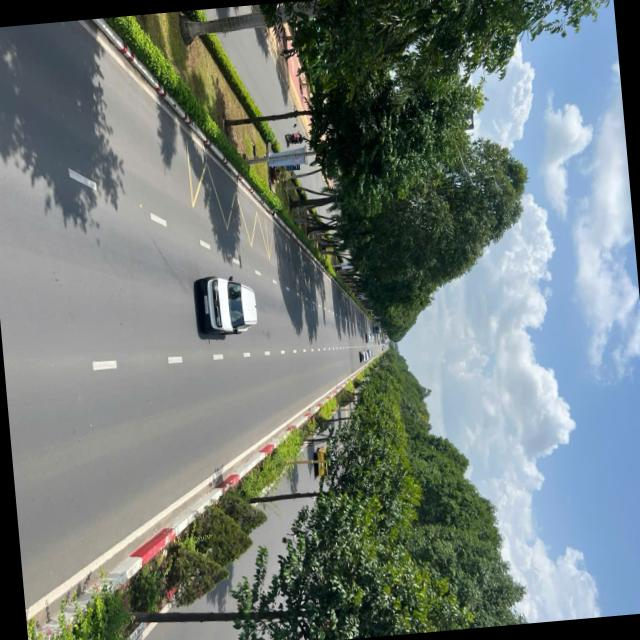car: (196, 270, 262, 344), (357, 350, 370, 367), (362, 331, 376, 346)
motobyte: (282, 128, 310, 150)
